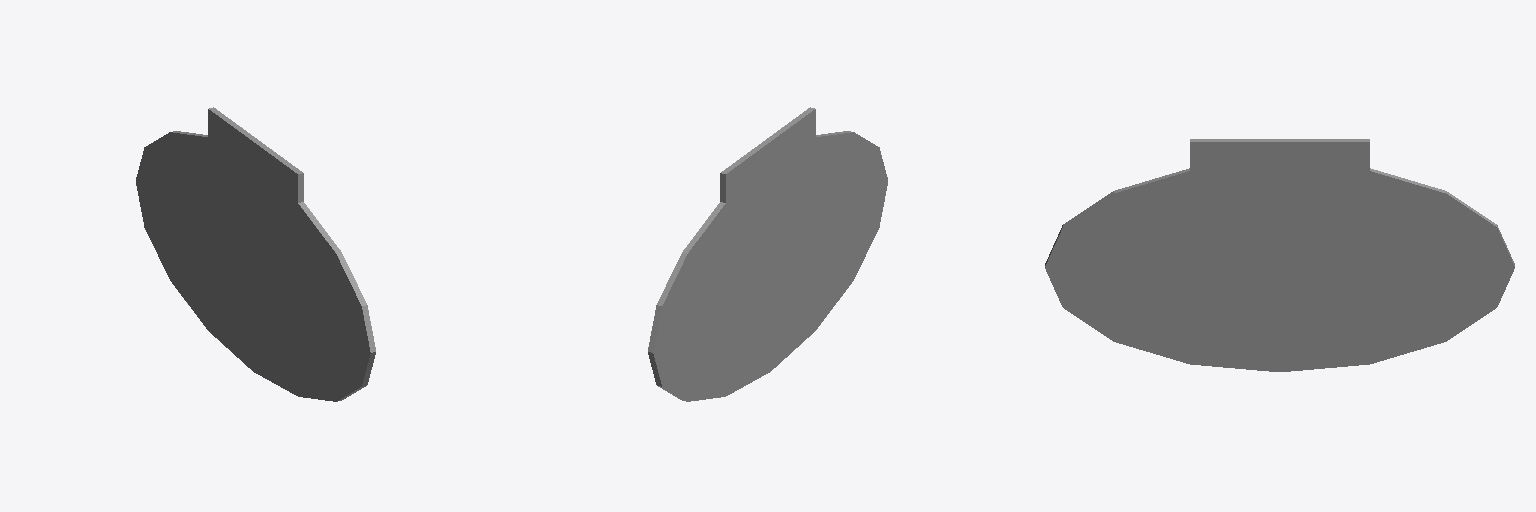
The model's file is Sign2.obj.
3 renders of one model, left to right at view 1: azimuth 30°, elevation 25°; view 2: azimuth 150°, elevation 25°; view 3: azimuth 270°, elevation 25°, orthographic.
Visible parts, largest first — view 1: Sign2; view 2: Sign2; view 3: Sign2.
Boxes of the visible parts, <box> form: Sign2: <box>136,107,375,401</box>; Sign2: <box>648,107,887,401</box>; Sign2: <box>1045,139,1514,371</box>.
Bounding box in the file's own units: 0.0182 × 0.7031 × 1.3.